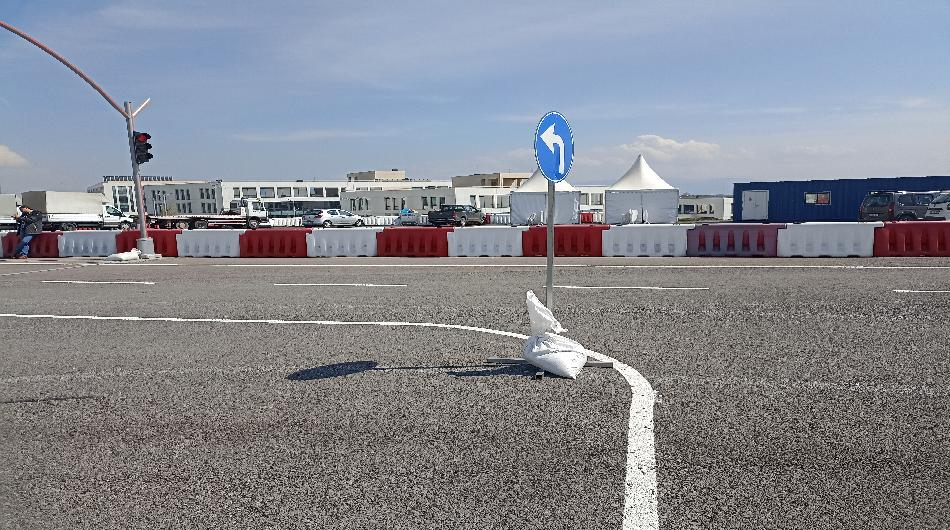sola_mecburi_2: (533, 109, 583, 188)
